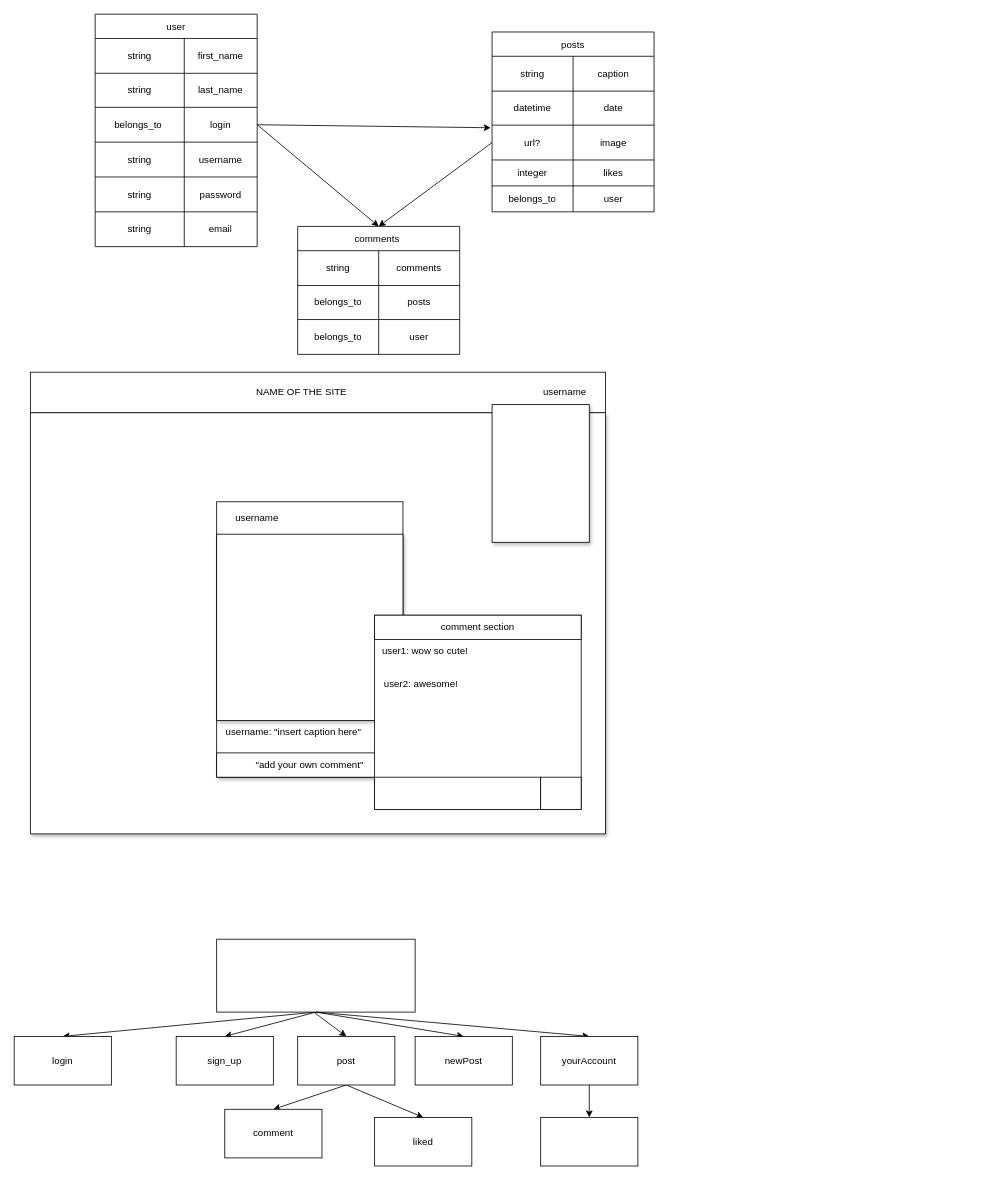
This 1003x1180 diagram has some shape labels left out. The shapes that lost their labels are listed below. From the top down, each one's centre as x and y in pixels, then its label:
point 541,474: Account setting favorited create new post your account logout
point 310,628: picture here
point 457,793: "Enter comment here"
point 560,793: send
point 315,975: APP fetch(user)
point 589,1141: accountSetting
